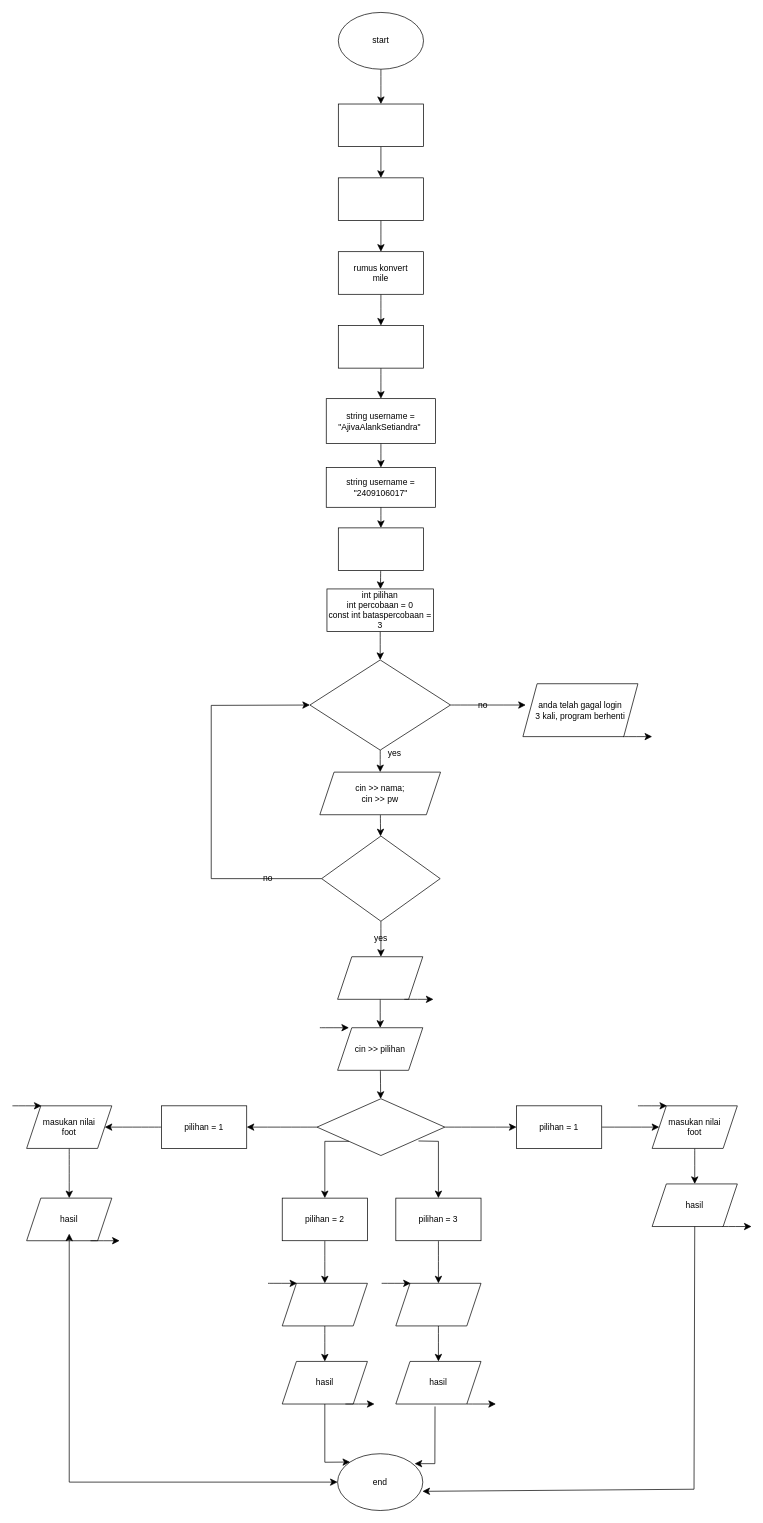
Image size: 763x1523. Some labels were removed from this diagram. Here are the shapes that lost their labels. From the top down, the centre of each, then its label:
(x=381, y=125): rumus konvert meter
(x=381, y=198): rumus konvert foot
(x=381, y=346): rumus konvert centimeter
(x=381, y=548): string name, pw
(x=379, y=704): percobaan < bataspercobaan
(x=380, y=878): if nama == username && pw == password
(x=380, y=977): login berhasil
(x=380, y=1127): pilihan (1/2/3/4)
(x=324, y=1304): masukan nilai meter
(x=438, y=1304): masukan nilai centimeter
